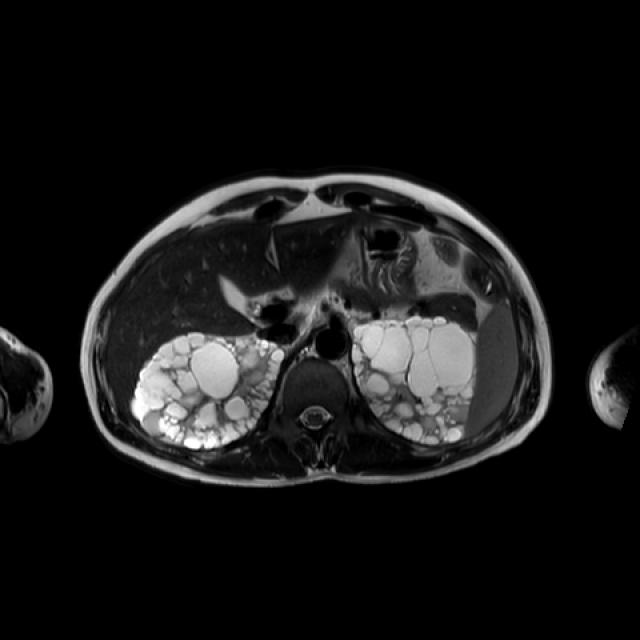sag: (132, 334, 285, 448)
sol: (354, 316, 476, 444)
